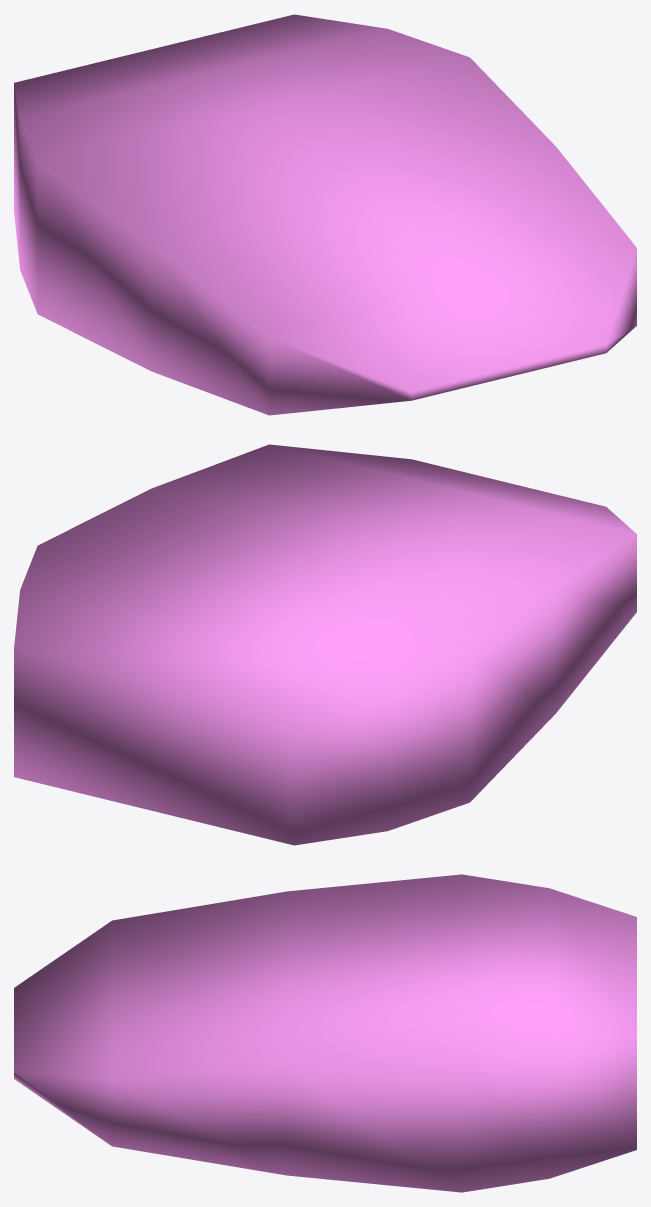
The model's file is FishRawChopped.glb.
3 views of the same model, one above another, from view 1: azimuth 30°, elevation 25°; view 2: azimuth 150°, elevation 25°; view 3: azimuth 270°, elevation 25° (orthographic). The views are drawn at different scales.
Visible parts, largest first — view 1: Cube.128; view 2: Cube.128; view 3: Cube.128.
Part boxes in pixels (<box>): Cube.128: <box>14,14,636,415</box>; Cube.128: <box>14,444,636,845</box>; Cube.128: <box>14,874,636,1192</box>.
Bounding box in the file's own units: 0.3825 × 0.128 × 0.5437.
